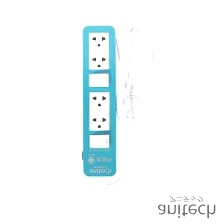three_eye_plug: (76, 20, 119, 181)
